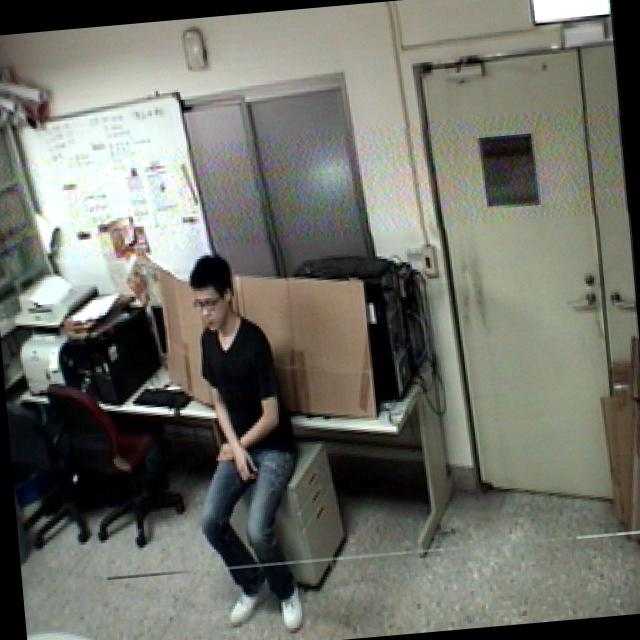sit: (169, 239, 319, 640)
